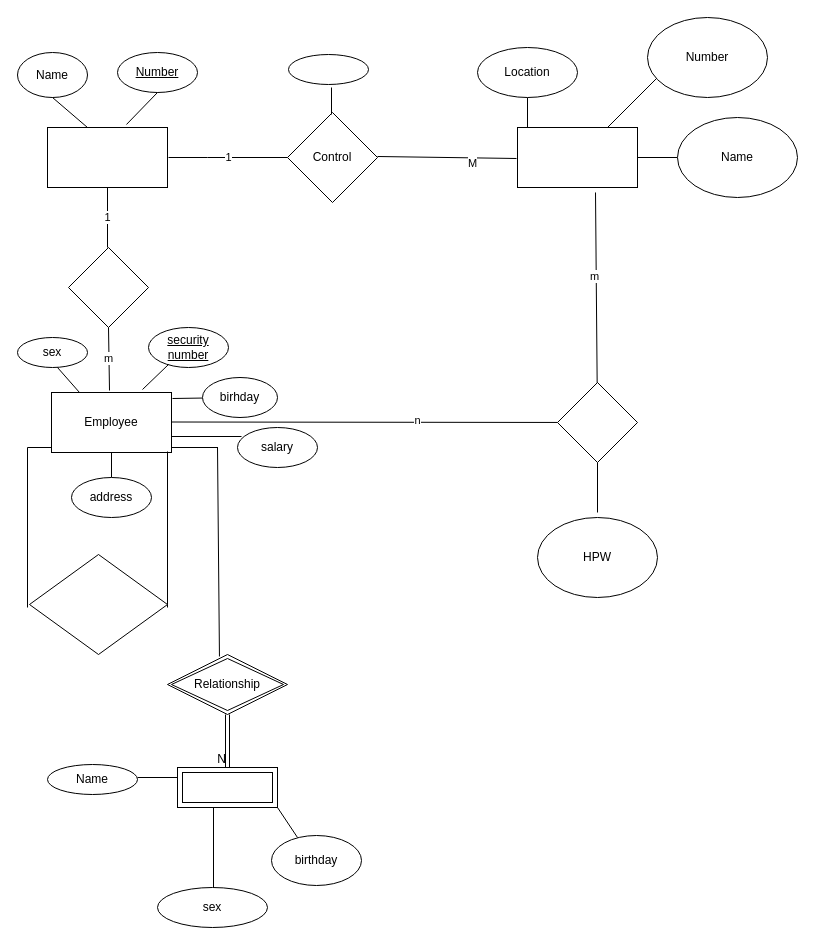
This 815x945 diagram has some shape labels left out. Each missing label, with the centre of its shape:
"Date" belongs at [328,69].
"Department" belongs at [107,157].
"Dependent" belongs at [227,787].
"has" belongs at [108,287].
"Project" belongs at [577,157].
"Supervise" belongs at [98,604].
"Work" belongs at [597,422].
